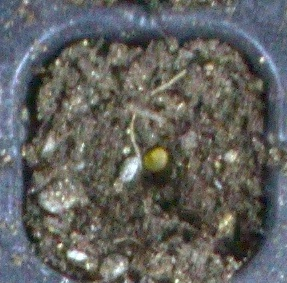chilli seed: (141, 146, 169, 173)
